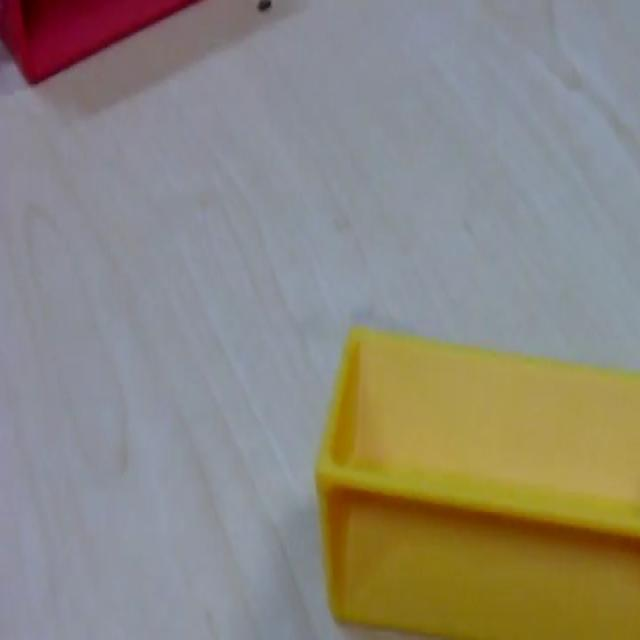yellow_block: (314, 320, 638, 636)
